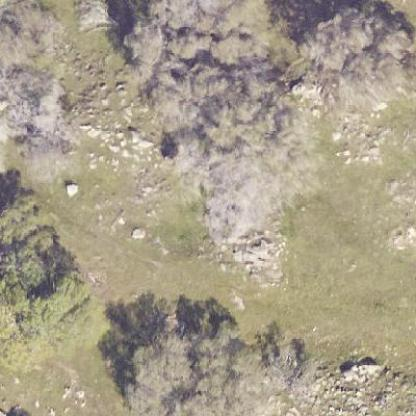tree-top: (0, 164, 87, 364), (117, 330, 315, 415), (292, 0, 406, 119)
